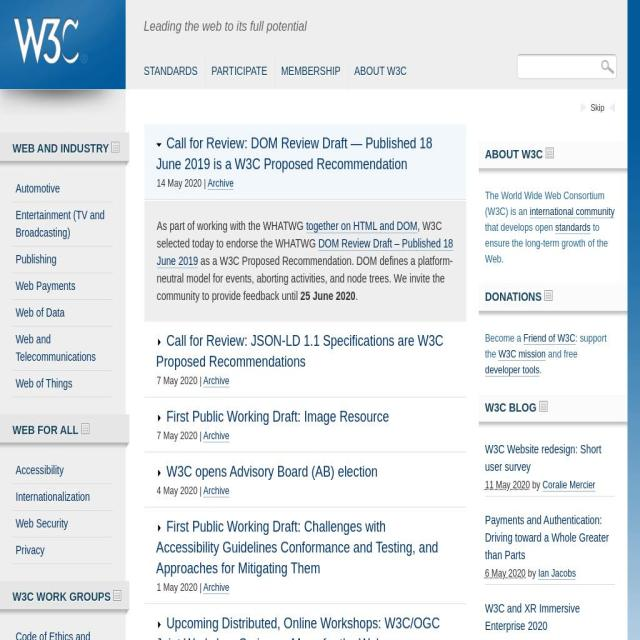button: (156, 518, 438, 579), (156, 332, 444, 372), (156, 134, 432, 175), (156, 237, 453, 269), (156, 614, 440, 640), (156, 408, 390, 428), (156, 462, 378, 482), (13, 202, 113, 246), (13, 327, 113, 370), (13, 176, 113, 202), (13, 246, 113, 272), (13, 273, 113, 299), (13, 300, 113, 326), (13, 371, 113, 397), (13, 484, 113, 510), (13, 511, 113, 537), (13, 538, 113, 564), (274, 54, 348, 89), (13, 458, 113, 483), (204, 54, 274, 89), (137, 54, 205, 89), (347, 54, 413, 89), (306, 219, 418, 234), (13, 624, 113, 640), (530, 205, 614, 219), (484, 363, 540, 378), (542, 479, 596, 493), (523, 332, 576, 346), (498, 348, 546, 362), (538, 567, 576, 581), (555, 221, 591, 235), (208, 177, 235, 191), (203, 375, 229, 388), (203, 430, 229, 443), (203, 485, 229, 498), (203, 582, 229, 595), (600, 60, 614, 74)
field: (519, 58, 588, 77)
heading: (12, 132, 640, 160), (156, 518, 438, 578), (0, 0, 126, 91), (156, 332, 444, 371), (156, 134, 433, 174), (156, 141, 479, 169), (156, 614, 440, 640), (166, 407, 390, 426), (166, 462, 379, 481), (12, 141, 112, 155), (13, 589, 113, 603), (12, 422, 82, 437), (484, 146, 546, 162), (484, 289, 544, 304), (484, 400, 540, 415), (12, 0, 39, 22), (538, 401, 548, 412), (80, 424, 90, 434), (113, 590, 122, 601), (545, 148, 554, 159), (544, 290, 552, 302), (111, 142, 120, 152), (156, 337, 162, 346), (156, 413, 162, 422), (156, 468, 162, 477), (156, 523, 162, 532), (156, 140, 162, 148), (156, 620, 162, 628)
image: (0, 89, 126, 116), (600, 60, 614, 74)
link: (484, 514, 609, 562), (484, 443, 602, 474), (484, 602, 580, 633), (590, 102, 605, 114)
text: (136, 0, 627, 53), (156, 254, 453, 304), (156, 219, 442, 251), (484, 221, 608, 266), (484, 332, 606, 361), (484, 190, 604, 218), (156, 219, 306, 233), (484, 221, 555, 234), (300, 289, 356, 303), (484, 479, 530, 492), (156, 178, 204, 190), (156, 375, 200, 387), (156, 430, 200, 442), (156, 485, 200, 497), (156, 582, 200, 594), (484, 332, 524, 345), (484, 568, 526, 580), (546, 347, 578, 361), (530, 479, 542, 492), (526, 568, 538, 580), (484, 638, 526, 640), (538, 638, 578, 640), (199, 375, 204, 387), (199, 430, 204, 442), (199, 485, 204, 497), (199, 582, 204, 594), (204, 178, 208, 190), (355, 289, 358, 303), (540, 363, 542, 377), (526, 638, 538, 640)
